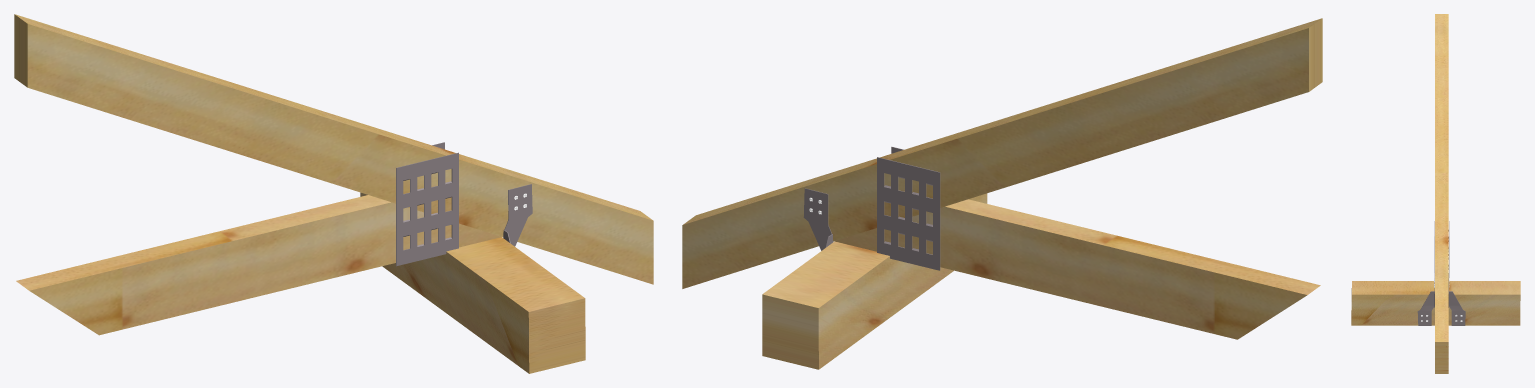
Rendered from connector.glb.
3 renders of one model, left to right at view 1: azimuth 30°, elevation 25°; view 2: azimuth 150°, elevation 25°; view 3: azimuth 270°, elevation 25°, orthographic. The views are drawn at different scales.
Visible parts, largest first — view 1: roof truss, MiddleWood, BaceWood, NailPlate, connecter; view 2: roof truss, MiddleWood, BaceWood, NailPlate.001, Connecter; view 3: BaceWood, roof truss, Connecter, connecter.
Boxes of the visible parts, left/top/right/bottom form: roof truss: left=14, top=14, right=653, bottom=284; MiddleWood: left=16, top=195, right=500, bottom=335; BaceWood: left=360, top=192, right=585, bottom=373; NailPlate: left=396, top=152, right=458, bottom=266; connecter: left=503, top=184, right=532, bottom=246; roof truss: left=682, top=18, right=1322, bottom=288; MiddleWood: left=835, top=199, right=1320, bottom=339; BaceWood: left=762, top=193, right=987, bottom=369; NailPlate.001: left=877, top=157, right=940, bottom=270; Connecter: left=803, top=188, right=833, bottom=250; BaceWood: left=1351, top=281, right=1520, bottom=325; roof truss: left=1435, top=14, right=1448, bottom=373; Connecter: left=1448, top=273, right=1465, bottom=325; connecter: left=1417, top=273, right=1434, bottom=325.
Bounding box in the file's own units: 1.3 × 0.8189 × 0.6058.
3 materials, 1 textured.
